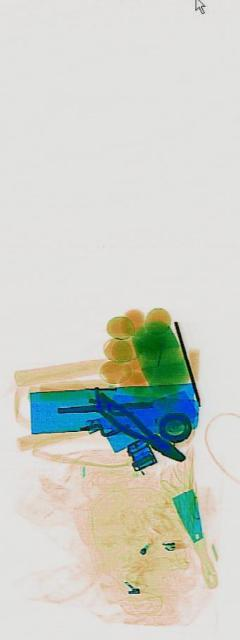Pliers: (96, 387, 184, 471)
